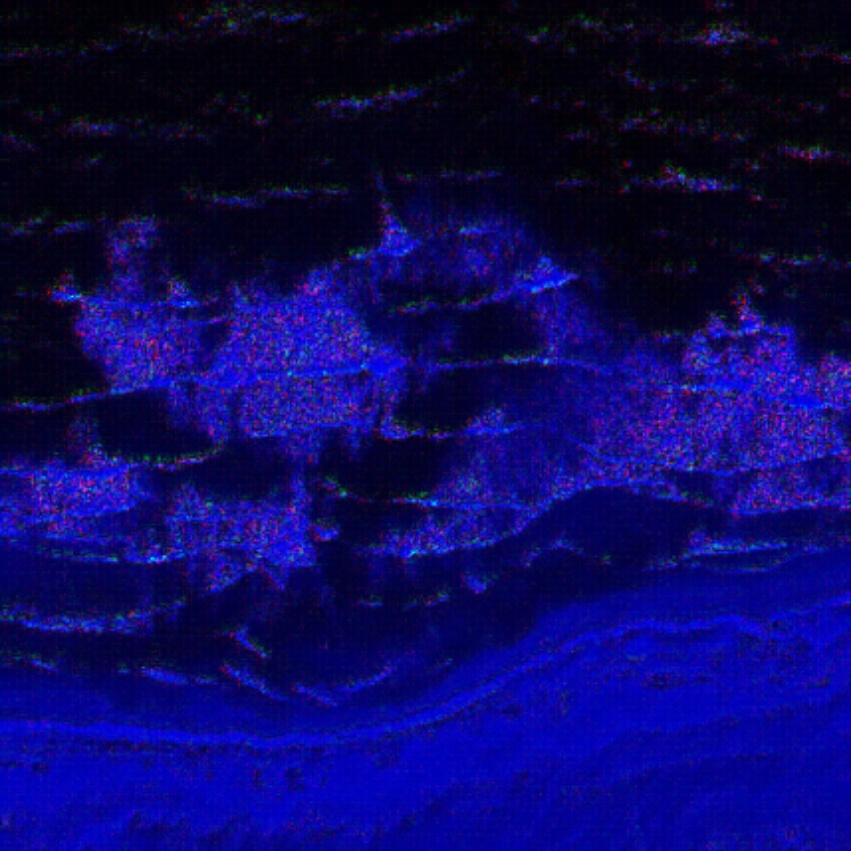rip_current: (256, 217, 564, 658)
